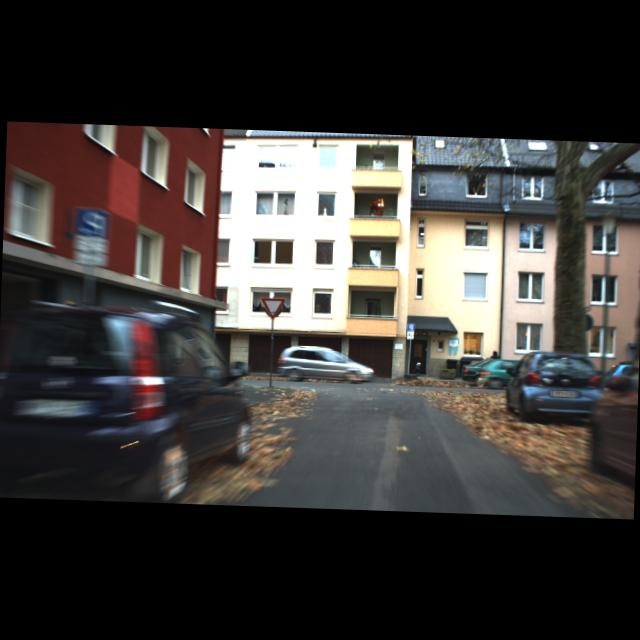other: (260, 297, 286, 320)
